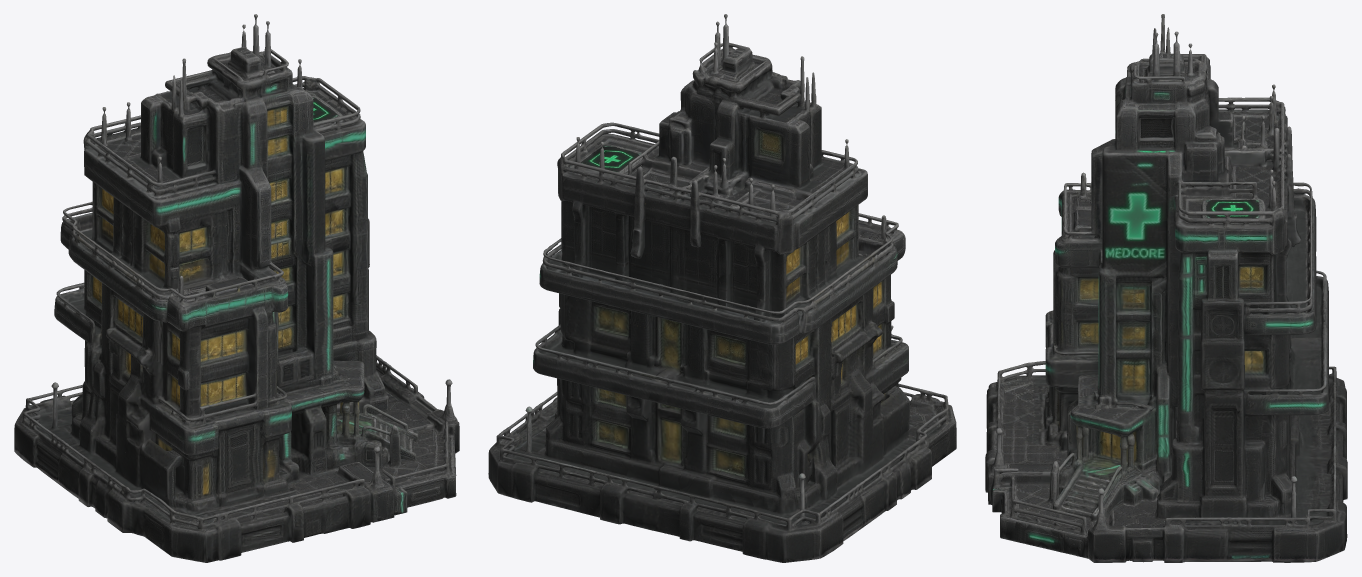
The model's file is s12Medcore_LOD1.glb.
3 views of the same model, side by side, from view 1: azimuth 30°, elevation 25°; view 2: azimuth 150°, elevation 25°; view 3: azimuth 270°, elevation 25° (orthographic).
Parts seen in each view (by area): view 1: Mesh_0.003; view 2: Mesh_0.003; view 3: Mesh_0.003.
Part boxes in pixels (x1=…): Mesh_0.003: x1=14, y1=14, x2=459, y2=562; Mesh_0.003: x1=488, y1=14, x2=956, y2=562; Mesh_0.003: x1=985, y1=14, x2=1347, y2=562.
Size of the model in its own units: 1.5 by 1.9 by 1.38.
1 material, 1 textured.
